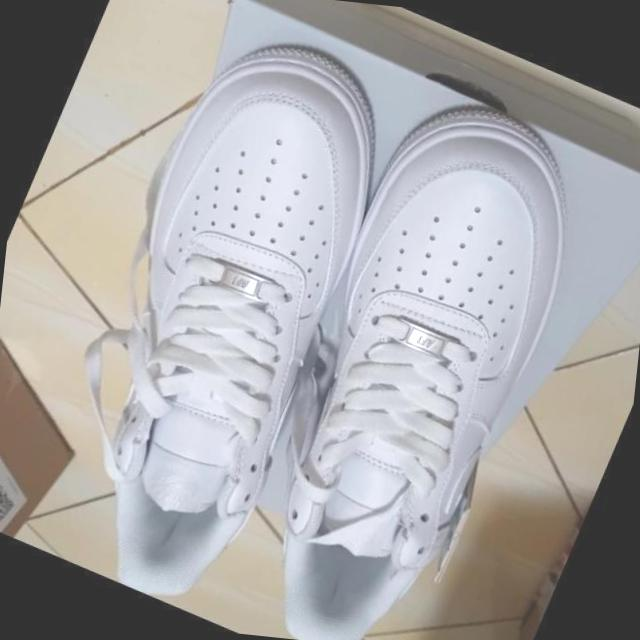nike_original_airforce: (1, 6, 438, 637), (196, 63, 640, 640)
